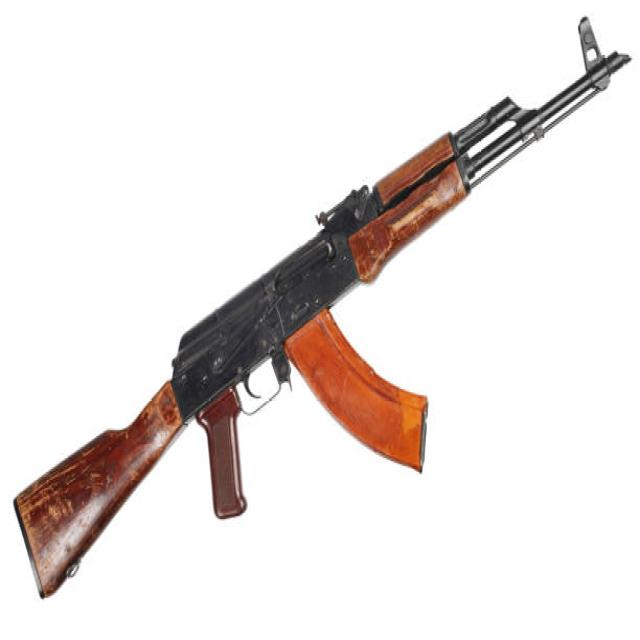rifle: (12, 6, 635, 601)
